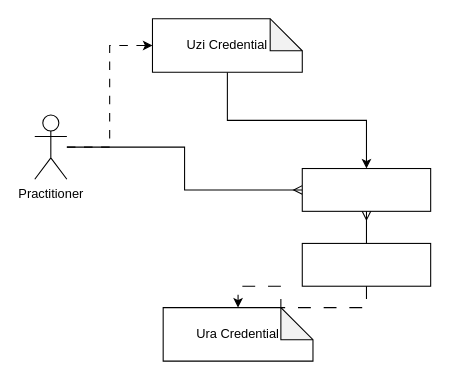
Some shapes in this 449 by 380 pixel diagram are drawn without their labels. Here are the shapes that lost their labels. From the top down, the box of each, then its label:
(301, 167, 431, 211): PractitionerRole
(301, 242, 431, 286): Organization
